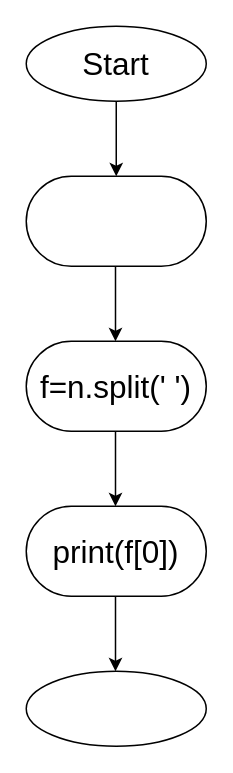
This 233x773 diagram has some shape labels left out. Here are the shapes that lost their labels. From the top down, the box of each, then its label:
(25, 175, 206, 266): Ввод n
(25, 670, 206, 746): End
